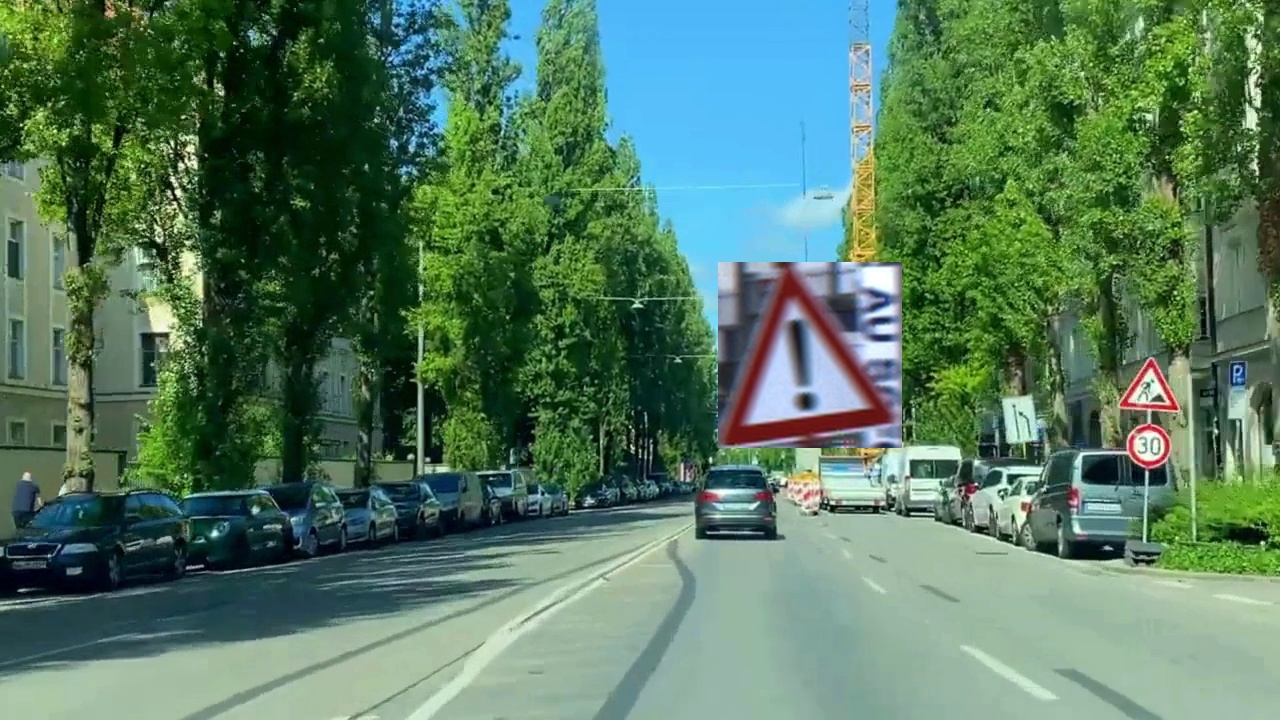Caution: (718, 262, 902, 448)
